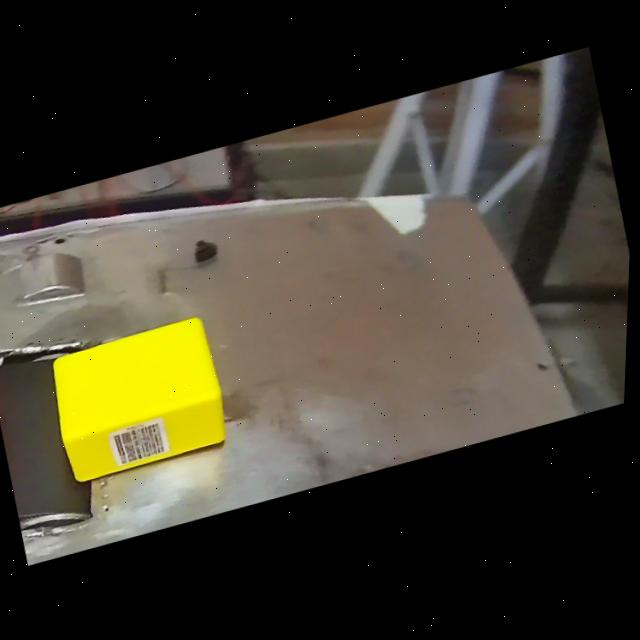redBox: (0, 326, 22, 479)
yellowBox: (42, 309, 242, 493)
